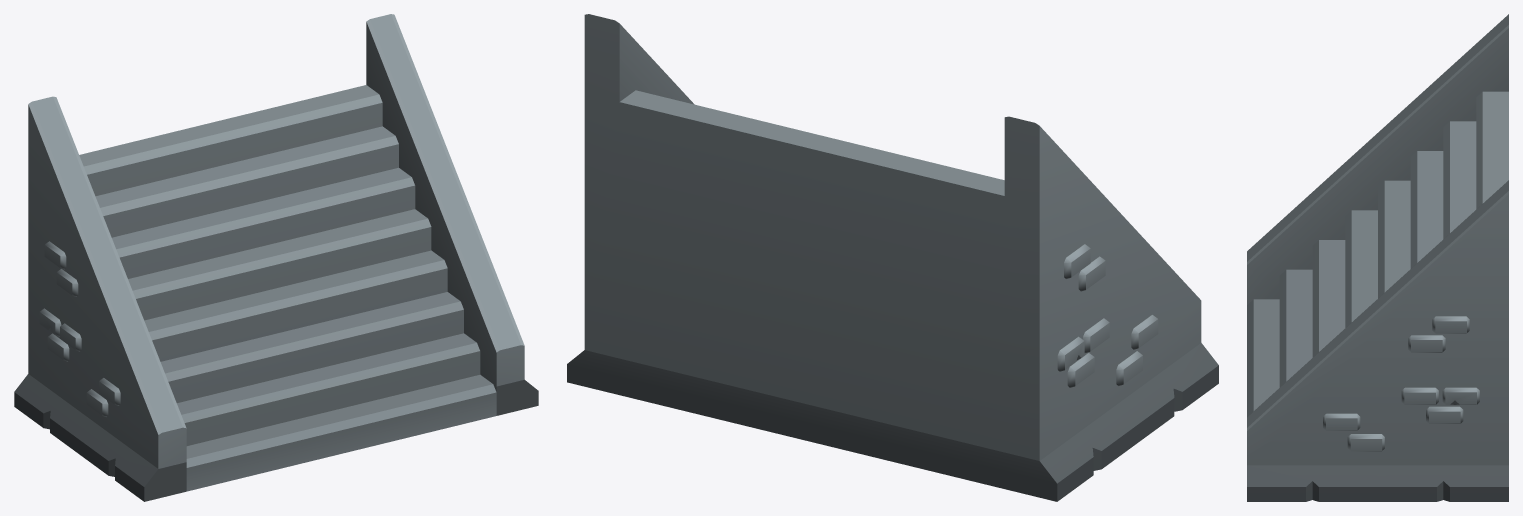
The model's file is dungeon-stairs-wide.glb.
The picture shows the model from 3 angles, left to right: view 1: azimuth 30°, elevation 25°; view 2: azimuth 150°, elevation 25°; view 3: azimuth 270°, elevation 25°; orthographic projection. The views are drawn at different scales.
Parts seen in each view (by area): view 1: dungeon-stairs-wide; view 2: dungeon-stairs-wide; view 3: dungeon-stairs-wide.
Part boxes in pixels (left/top/right/bottom): dungeon-stairs-wide: left=14, top=14, right=538, bottom=501; dungeon-stairs-wide: left=567, top=14, right=1218, bottom=501; dungeon-stairs-wide: left=1247, top=14, right=1508, bottom=501.
Size of the model in its own units: 5.25 by 3.83 by 3.
1 material, 1 textured.
